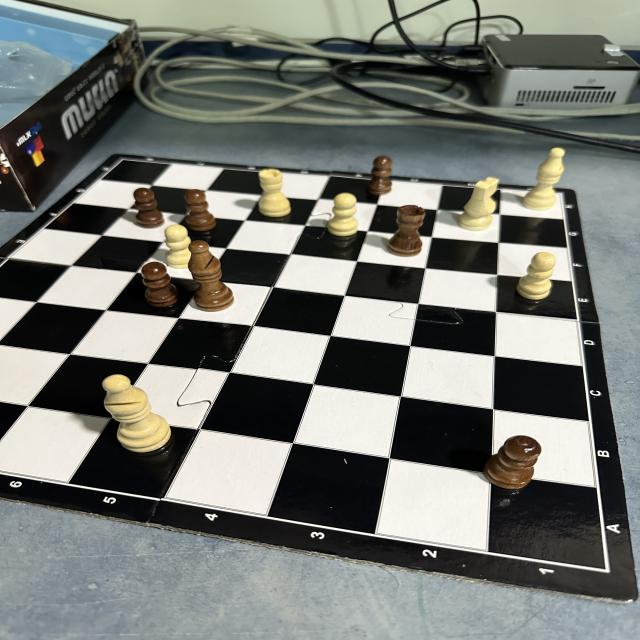Black-Bishop: (188, 240, 234, 312)
Black-Pawn: (483, 435, 543, 490), (141, 261, 180, 308), (184, 189, 217, 232), (133, 187, 165, 229), (367, 156, 393, 196)
Black-Rook: (387, 205, 427, 257)
White-Bishop: (101, 374, 172, 453), (523, 146, 566, 211)
White-Knight: (458, 177, 500, 232)
White-Pawn: (515, 252, 556, 300), (326, 192, 358, 237), (165, 224, 192, 269)
White-Rook: (257, 169, 292, 218)
